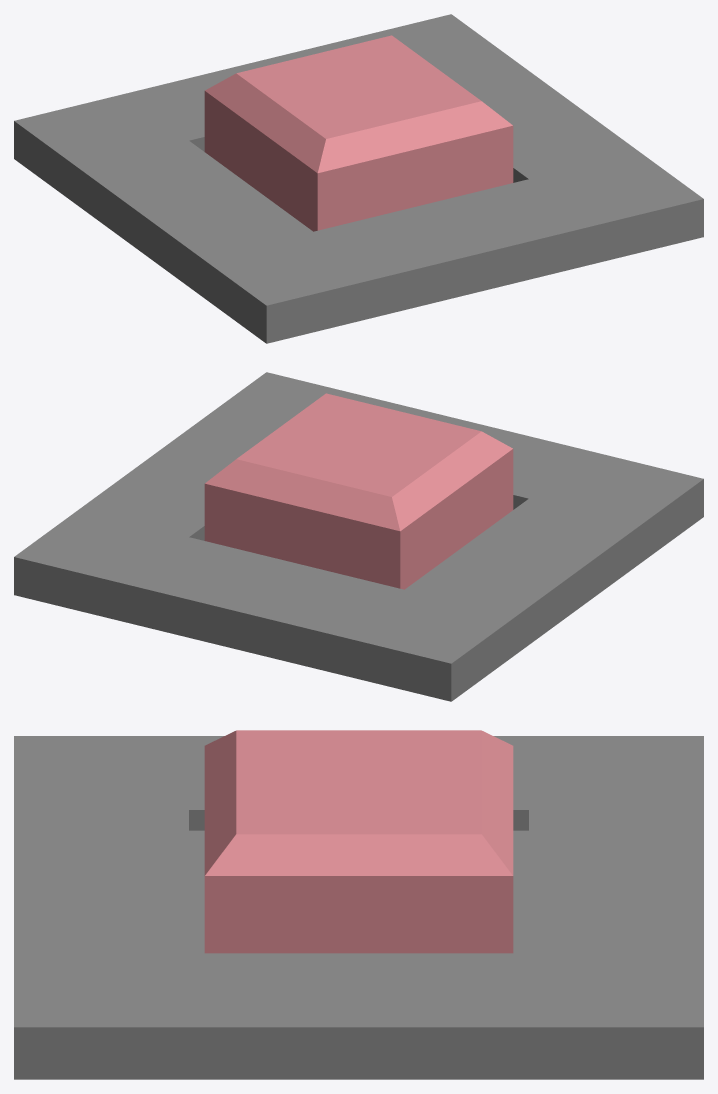
File: bouton poussoire v2.glb
3 views of the same model, one above another, from view 1: azimuth 30°, elevation 25°; view 2: azimuth 150°, elevation 25°; view 3: azimuth 270°, elevation 25° (orthographic). The views are drawn at different scales.
Parts seen in each view (by area): view 1: Base Poussoire, Bouton Poussoire; view 2: Base Poussoire, Bouton Poussoire; view 3: Base Poussoire, Bouton Poussoire.
Part boxes in pixels (bbox=[...]): Base Poussoire: bbox=[14, 14, 703, 343]; Bouton Poussoire: bbox=[204, 35, 513, 231]; Base Poussoire: bbox=[14, 372, 703, 701]; Bouton Poussoire: bbox=[204, 393, 513, 589]; Base Poussoire: bbox=[14, 736, 703, 1079]; Bouton Poussoire: bbox=[204, 730, 513, 953].
Size of the model in its own units: 0.8 by 0.1937 by 0.8.
